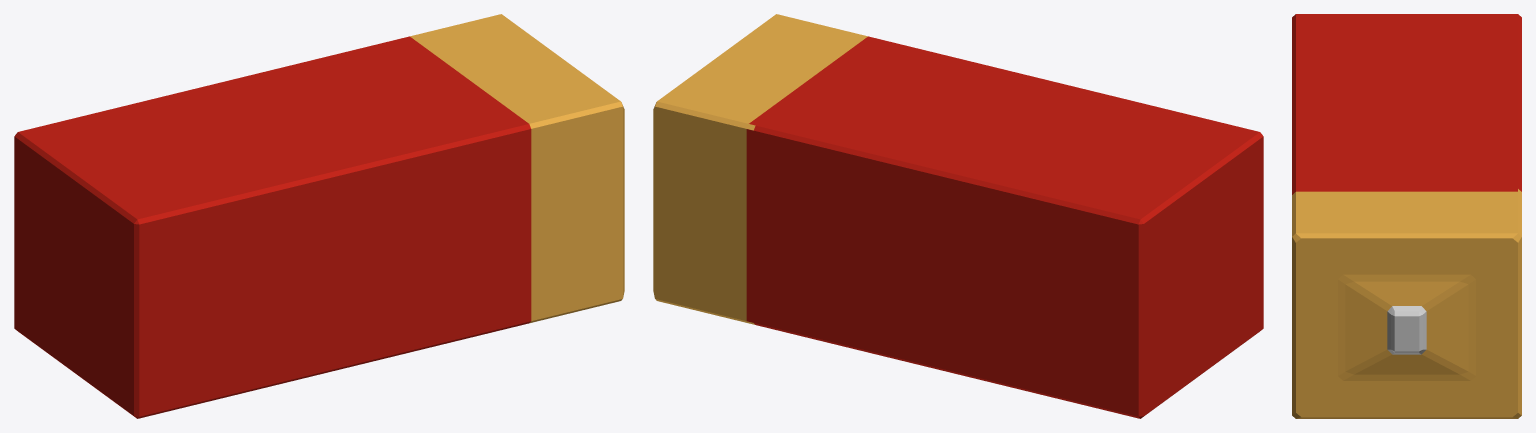
The model's file is battery_part_red.dae.
The picture shows the model from 3 angles, left to right: view 1: azimuth 30°, elevation 25°; view 2: azimuth 150°, elevation 25°; view 3: azimuth 270°, elevation 25°; orthographic projection. The views are drawn at different scales.
Parts seen in each view (by area): view 1: BATTERY; view 2: BATTERY; view 3: BATTERY.
Boxes of the visible parts, <box> form: BATTERY: <box>14,14,624,418</box>; BATTERY: <box>653,14,1263,418</box>; BATTERY: <box>1292,14,1521,418</box>.
Size of the model in its own units: 0.1408 by 0.0598 by 0.0533.
